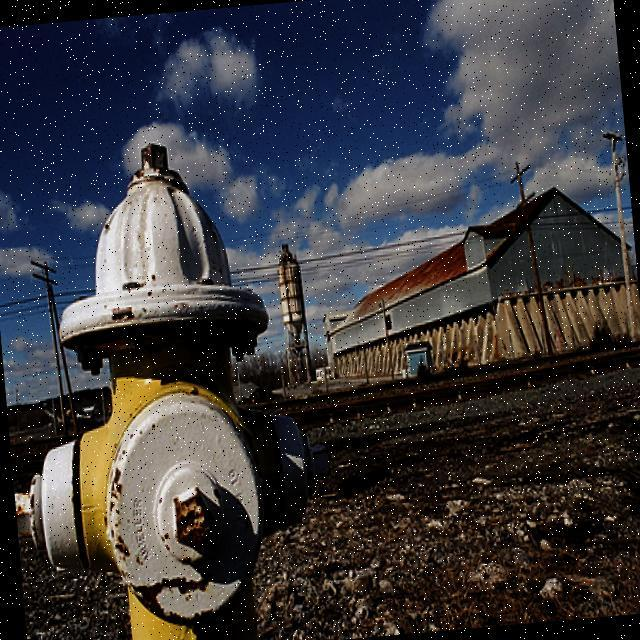fire_hydrant: (0, 130, 346, 640)
